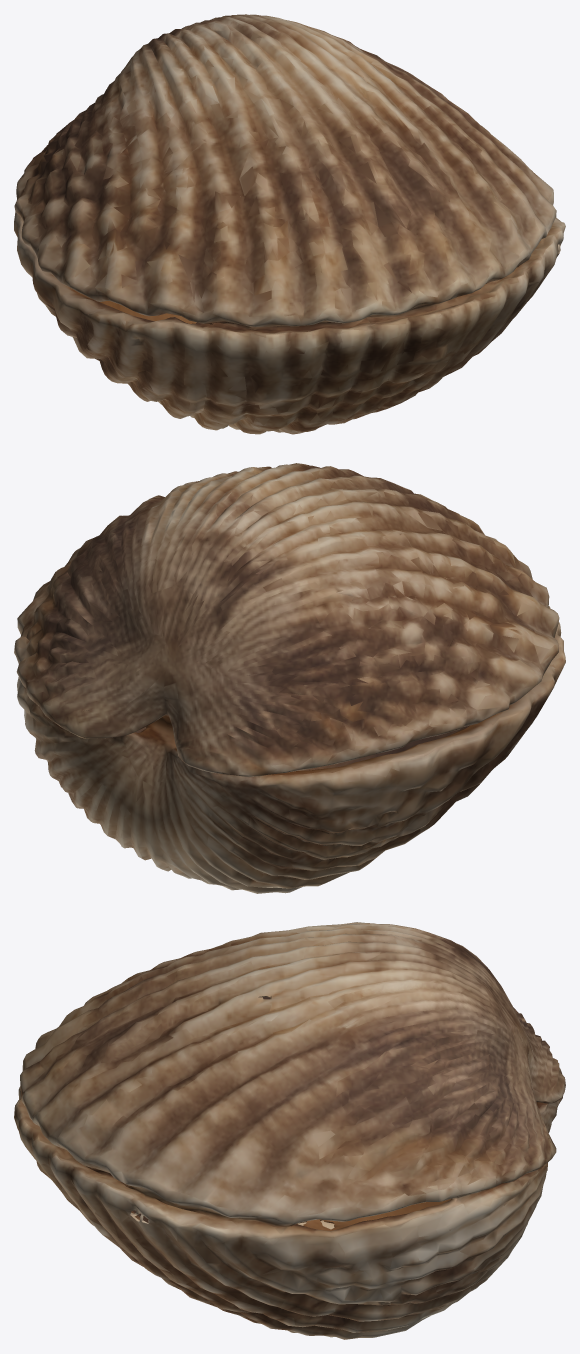
File: cockle-shell-model.glb
3 renders of one model, top to bottom at view 1: azimuth 30°, elevation 25°; view 2: azimuth 150°, elevation 25°; view 3: azimuth 270°, elevation 25°, orthographic.
Parts seen in each view (by area): view 1: Mesh_0; view 2: Mesh_0; view 3: Mesh_0.
Part boxes in pixels (x1,y1,x2,y2): Mesh_0: (14, 14, 565, 434); Mesh_0: (14, 463, 565, 893); Mesh_0: (14, 922, 565, 1339).
Size of the model in its own units: 0.1569 by 0.1179 by 0.16.
1 material, 1 textured.
